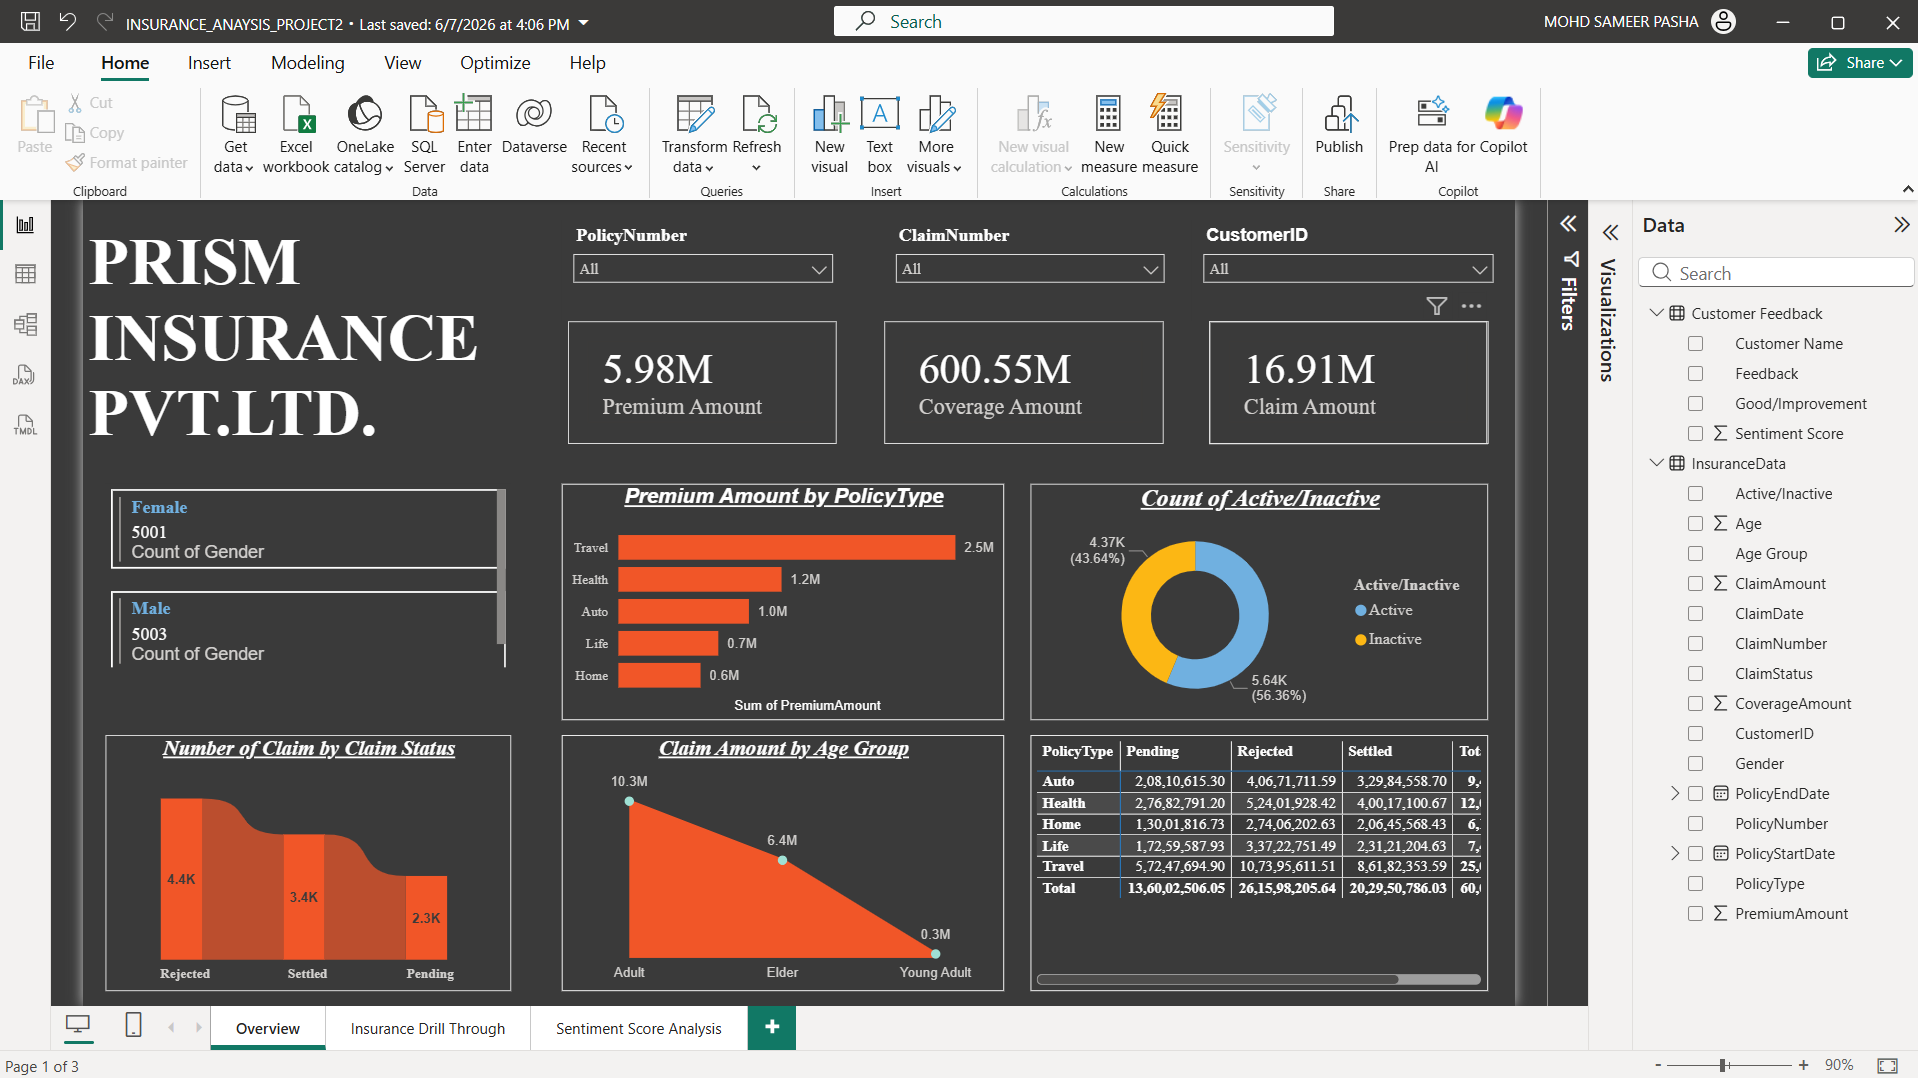

The page's visual inventory and layout, read from the dashboard file:
{"tool":"powerbi","page":{"name":"Overview","canvas":[1280,720],"ordinal":0},"visuals":[{"type":"slicer","fields":{"Values":["InsuranceData.PolicyNumber"]},"box":[428.1,17.8,252.5,90.6],"z":0},{"type":"slicer","fields":{"Values":["InsuranceData.ClaimNumber"]},"box":[716.3,17.8,260.7,90.6],"z":1000},{"type":"slicer","fields":{"Values":["InsuranceData.CustomerID"]},"box":[990.7,17.8,279.9,90.6],"z":2000},{"type":"textbox","box":[0,17.8,362.3,236],"z":3000},{"type":"cardVisual","fields":{"Data":["Sum(InsuranceData.PremiumAmount)"]},"box":[433.6,108.4,240.1,109.8],"z":4000},{"type":"cardVisual","fields":{"Data":["Sum(InsuranceData.CoverageAmount)"]},"box":[716.3,108.4,249.7,109.8],"z":5000},{"type":"cardVisual","fields":{"Data":["Sum(InsuranceData.ClaimAmount)"]},"box":[1005.8,108.4,249.7,109.8],"z":6000},{"type":"multiRowCard","fields":{"Values":["InsuranceData.Gender","CountNonNull(InsuranceData.Gender)"]},"box":[20.6,253.9,362.3,168.8],"z":7000},{"type":"ribbonChart","title":"Number of Claim by Claim Status","fields":{"Category":["InsuranceData.ClaimStatus"],"Y":["CountNonNull(InsuranceData.ClaimStatus)"]},"box":[20.6,477.5,362.3,229.2],"z":8000},{"type":"barChart","title":"Premium Amount by PolicyType","fields":{"Category":["InsuranceData.PolicyType"],"Y":["Sum(InsuranceData.PremiumAmount)"]},"box":[428.1,253.9,395.2,211.3],"z":9000},{"type":"lineChart","title":"Claim Amount by Age Group","fields":{"Category":["InsuranceData.Age Group"],"Y":["Sum(InsuranceData.ClaimAmount)"]},"box":[428.1,477.5,395.2,229.2],"z":10000},{"type":"donutChart","title":"Count of Active/Inactive","fields":{"Category":["InsuranceData.Active/Inactive"],"Y":["CountNonNull(InsuranceData.Active/Inactive)"]},"box":[846.7,253.9,408.9,211.3],"z":11000},{"type":"pivotTable","fields":{"Values":["Sum(InsuranceData.CoverageAmount)"],"Rows":["InsuranceData.PolicyType"],"Columns":["InsuranceData.ClaimStatus"]},"box":[846.7,477.5,408.9,229.2],"z":12000}]}

Visuals, with their boxes on the page's 1280x720 design canvas (x1, y1, x2, y2). These are canvas units, not pixel positions in the 1918x1078 screenshot, which may show the page scaled, cropped or inside an application window:
slicer - InsuranceData.PolicyNumber: BBox(428, 18, 681, 108)
slicer - InsuranceData.ClaimNumber: BBox(716, 18, 977, 108)
slicer - InsuranceData.CustomerID: BBox(991, 18, 1271, 108)
textbox: BBox(0, 18, 362, 254)
cardVisual - Sum(InsuranceData.PremiumAmount): BBox(434, 108, 674, 218)
cardVisual - Sum(InsuranceData.CoverageAmount): BBox(716, 108, 966, 218)
cardVisual - Sum(InsuranceData.ClaimAmount): BBox(1006, 108, 1256, 218)
multiRowCard - InsuranceData.Gender x CountNonNull(InsuranceData.Gender): BBox(21, 254, 383, 423)
"Number of Claim by Claim Status" ribbonChart: BBox(21, 478, 383, 707)
"Premium Amount by PolicyType" barChart: BBox(428, 254, 823, 465)
"Claim Amount by Age Group" lineChart: BBox(428, 478, 823, 707)
"Count of Active/Inactive" donutChart: BBox(847, 254, 1256, 465)
pivotTable - Sum(InsuranceData.CoverageAmount) x InsuranceData.PolicyType: BBox(847, 478, 1256, 707)
